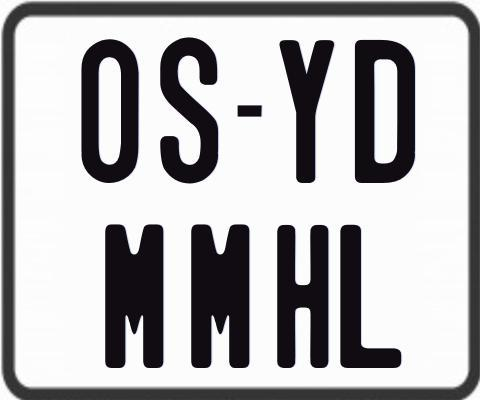0: (80, 37, 144, 187)
D: (353, 38, 416, 185)
H: (275, 223, 331, 366)
L: (337, 224, 401, 371)
M: (103, 224, 163, 372), (189, 222, 249, 370)
S: (158, 36, 219, 187)
Y: (278, 37, 333, 181)
